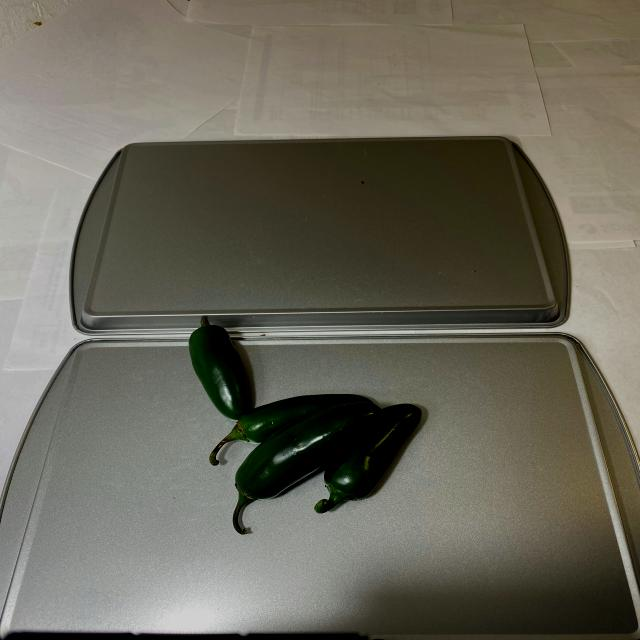chilli: (186, 314, 426, 533)
